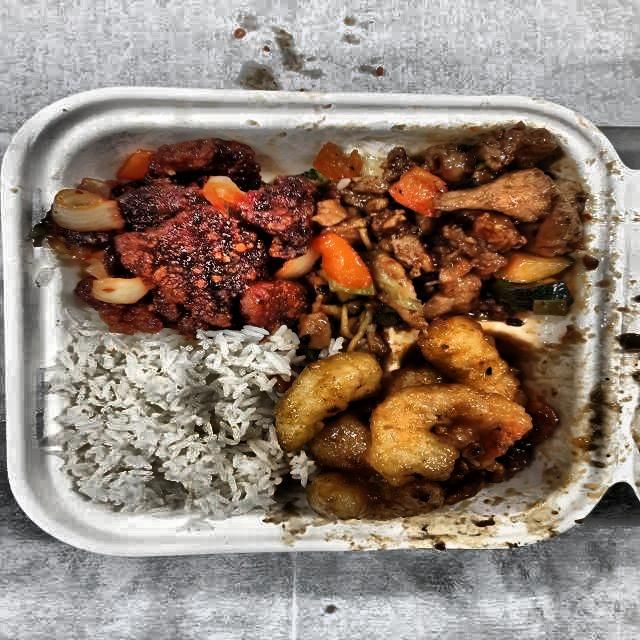Food: (306, 123, 604, 340), (276, 319, 550, 525), (44, 134, 322, 336), (56, 333, 280, 514)
